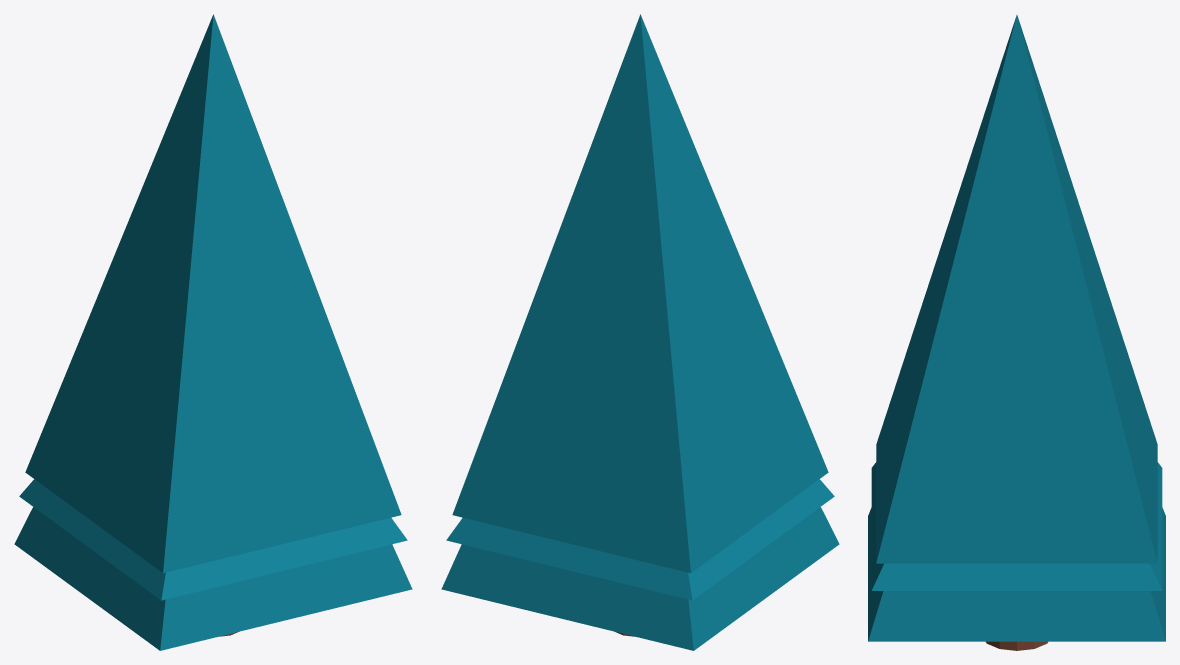
The model's file is Tree_34_summer_blue_mat.fbx.
The picture shows the model from 3 angles, left to right: view 1: azimuth 30°, elevation 25°; view 2: azimuth 150°, elevation 25°; view 3: azimuth 270°, elevation 25°; orthographic projection. The views are drawn at different scales.
Parts seen in each view (by area): view 1: Tree_34_summer_blue_mat; view 2: Tree_34_summer_blue_mat; view 3: Tree_34_summer_blue_mat.
Part boxes in pixels (x1,y1,x2,y2): Tree_34_summer_blue_mat: [14, 14, 412, 650]; Tree_34_summer_blue_mat: [441, 14, 839, 650]; Tree_34_summer_blue_mat: [868, 15, 1165, 650].
Size of the model in its own units: 83.78 by 193 by 83.78.
